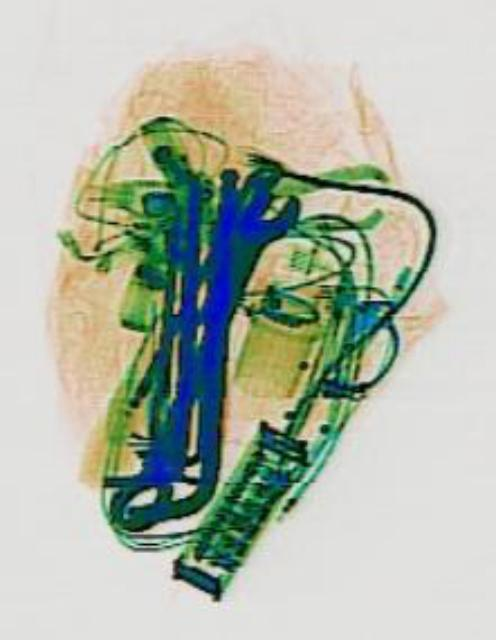Wrench: (188, 168, 302, 344)
